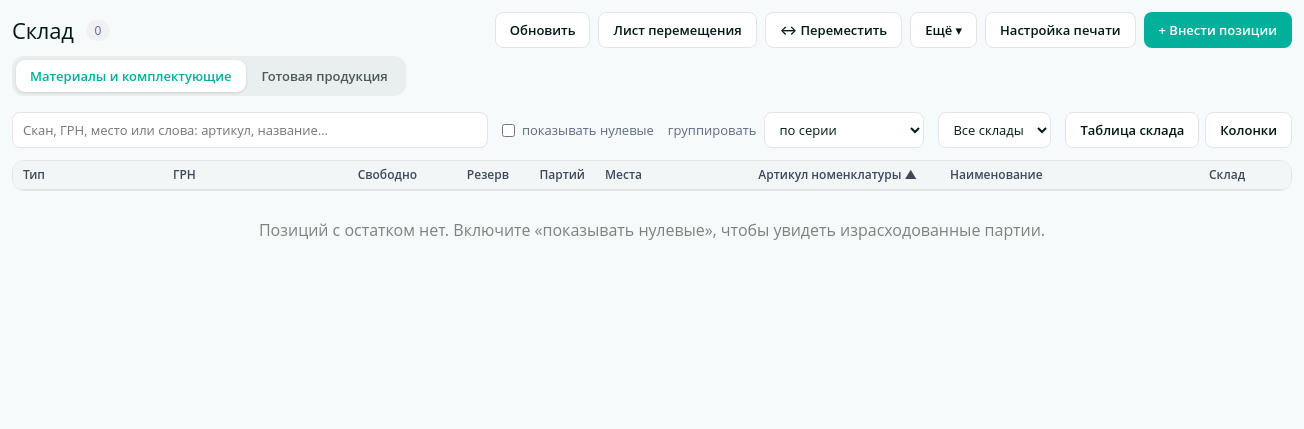
Склад → Готовая продукция › is a tab of the warehouse only for those who read «Отгрузка»
expect the heading "Склад" is shown: met, box 12,15 -> 74,45
Click the tab "Готовая продукция". click: [325, 76]
box: 248,60 -> 402,92
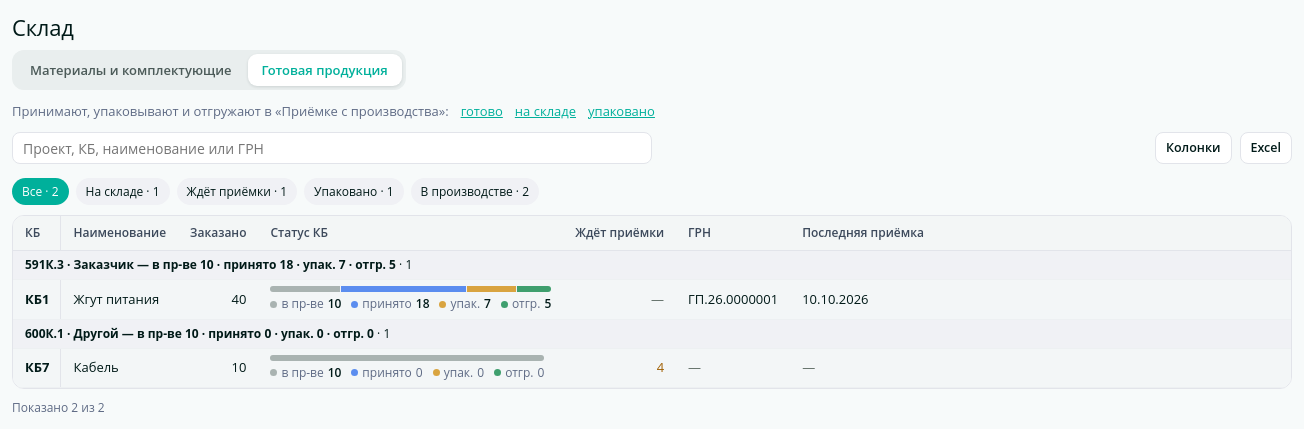
expect the text "ГП.26.0000001" is shown: met, box 688,290 -> 778,308
Click the tab "Материалы и комплектующие". click: [131, 70]
box: 16,54 -> 246,86
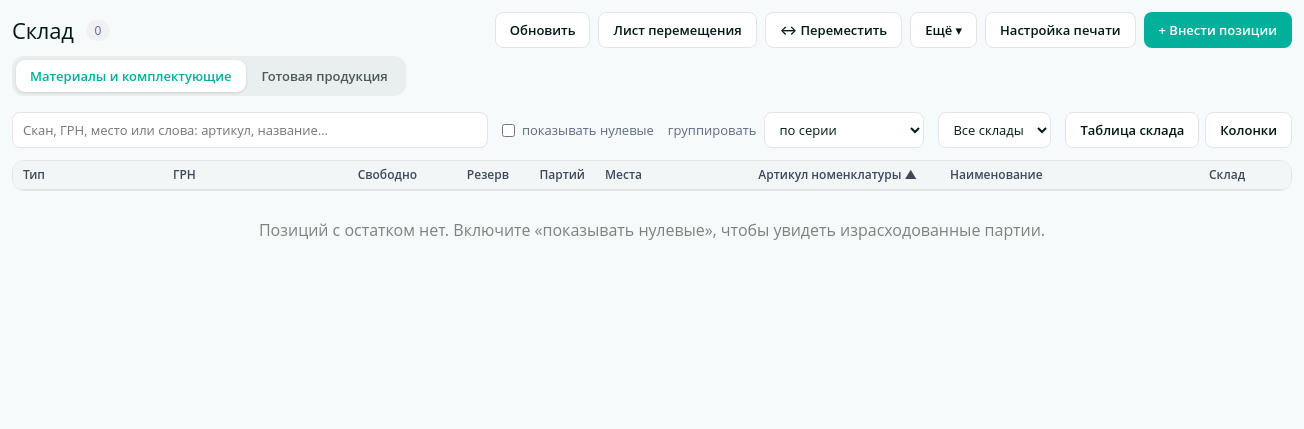
expect the button "+ Внести позиции" is shown: met, box 1144,12 -> 1292,48
